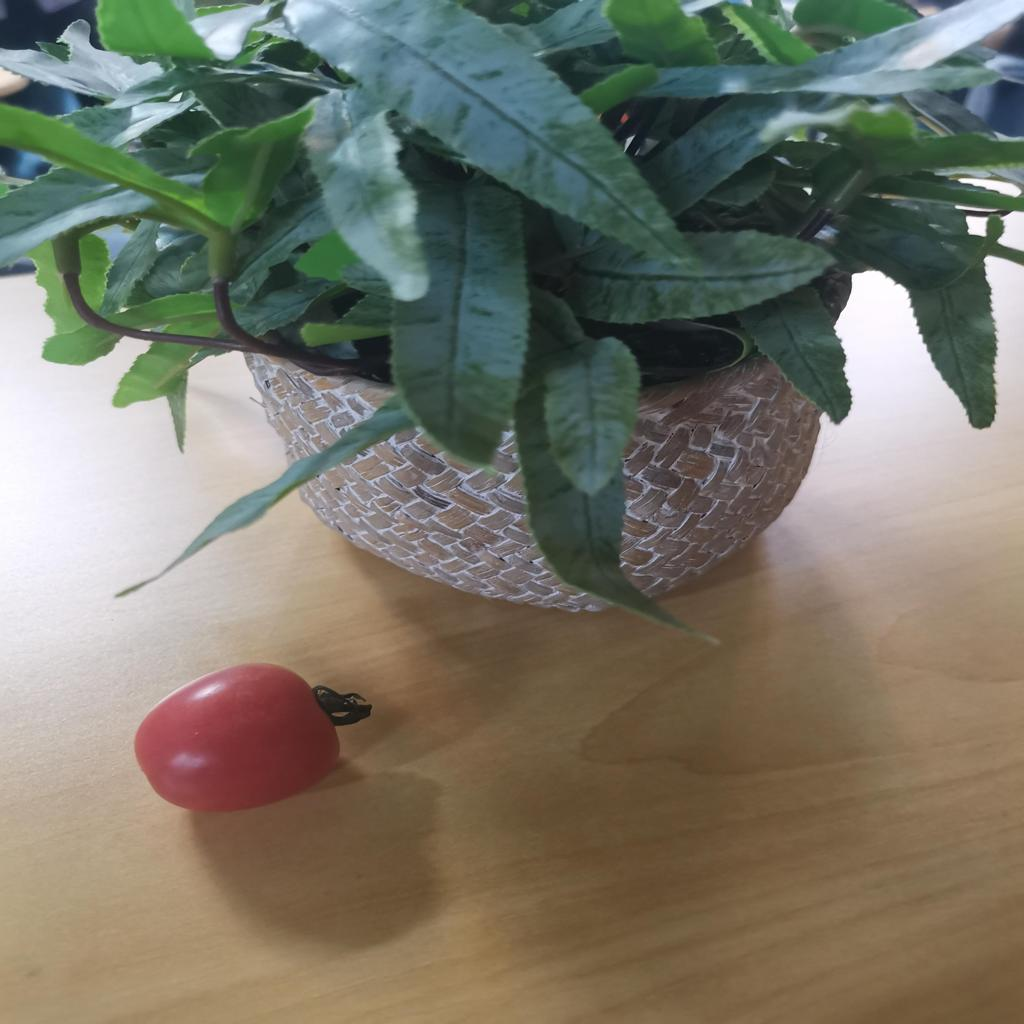tomato: (117, 661, 366, 818)
